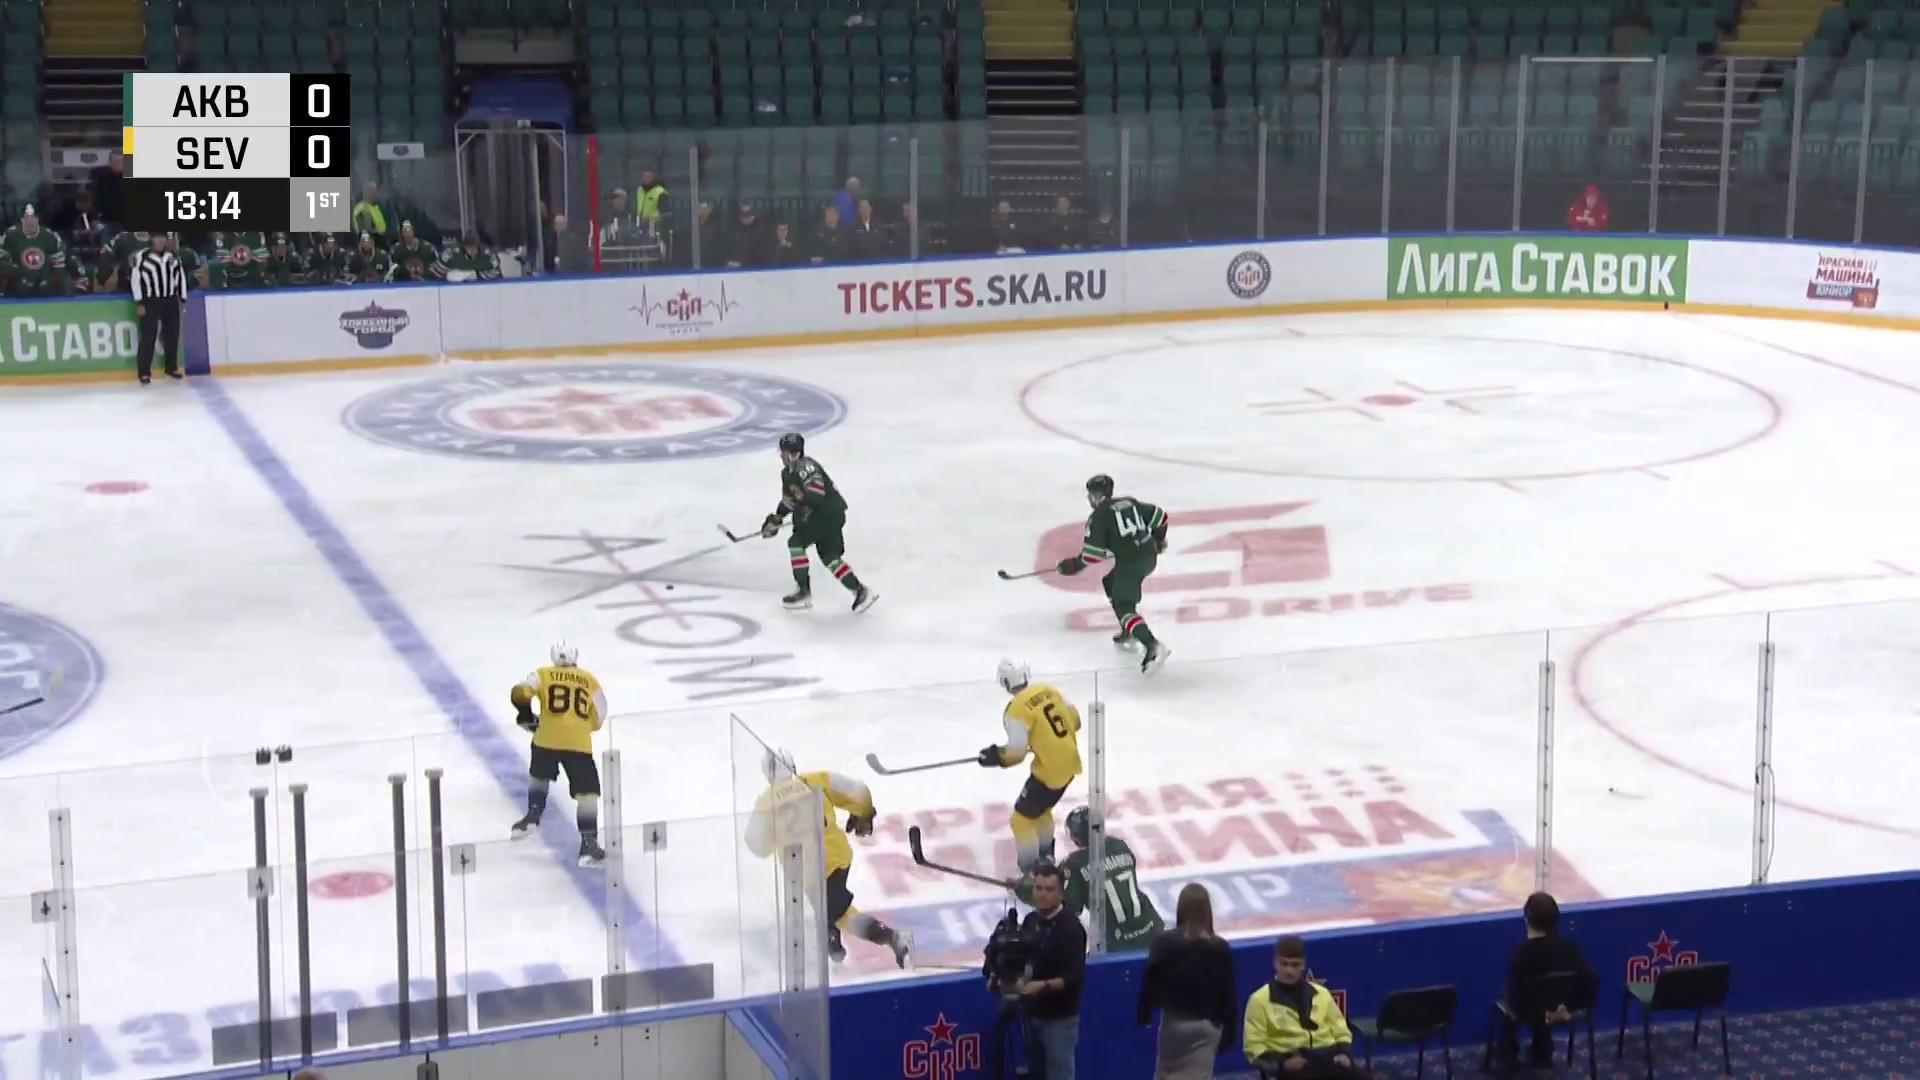ball: (665, 584, 675, 591)
